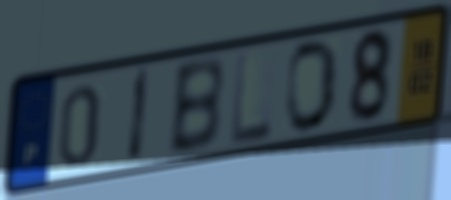0: (56, 81, 107, 170)
8: (345, 26, 395, 126)
B: (165, 53, 226, 159)
I: (125, 64, 153, 167)
L: (229, 47, 275, 149)
O: (284, 37, 341, 137)
